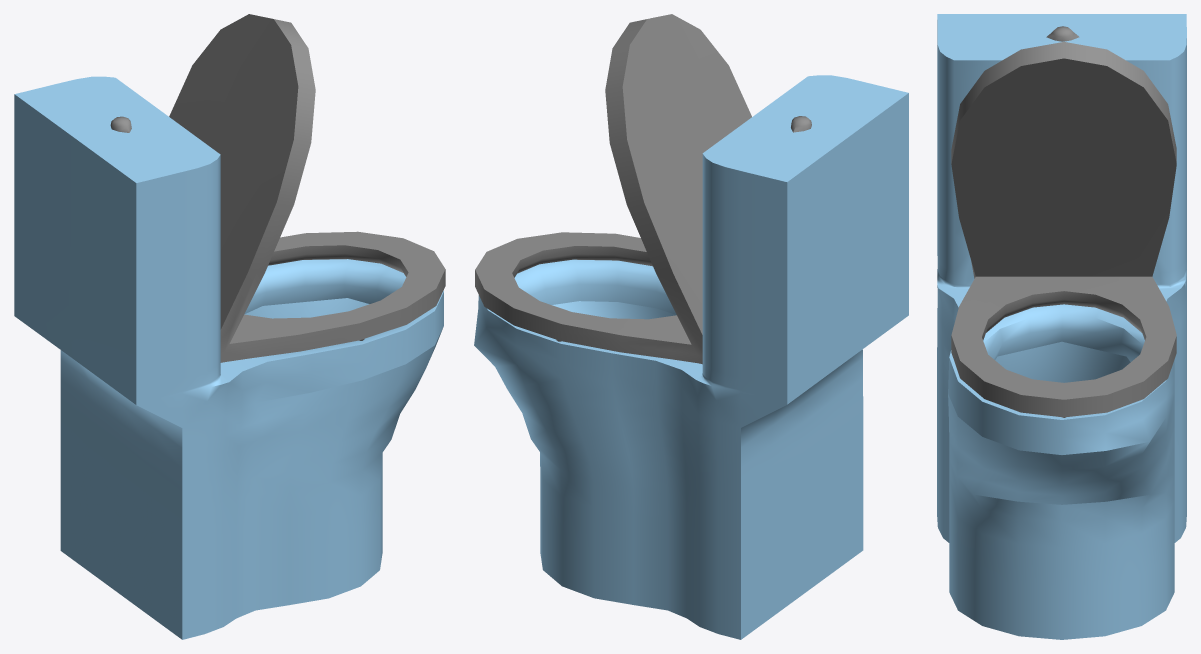
The model's file is vater.fbx.
3 views of the same model, side by side, from view 1: azimuth 30°, elevation 25°; view 2: azimuth 150°, elevation 25°; view 3: azimuth 270°, elevation 25° (orthographic). The views are drawn at different scales.
Visible parts, largest first — view 1: Cube.009; view 2: Cube.009; view 3: Cube.009.
Part boxes in pixels (bbox=[...]): Cube.009: bbox=[14, 14, 445, 639]; Cube.009: bbox=[474, 14, 908, 639]; Cube.009: bbox=[937, 14, 1186, 639].
Bounding box in the file's own units: 3.43 × 4.9 × 2.01.
